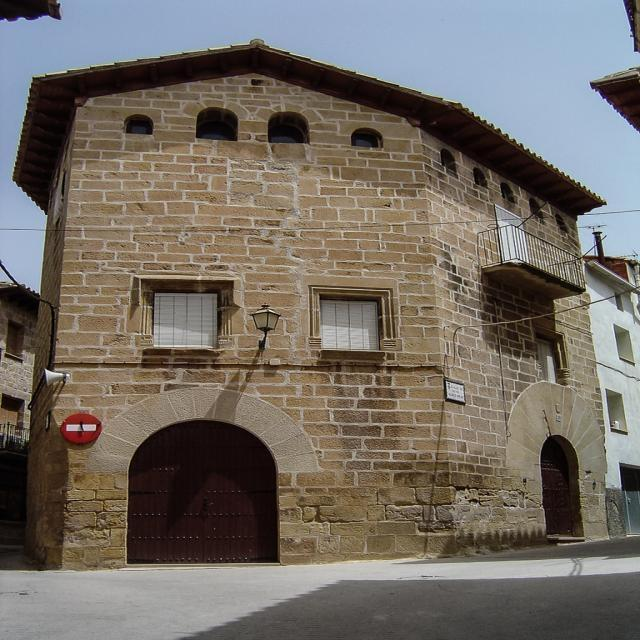door: (123, 415, 284, 567), (539, 432, 582, 543)
